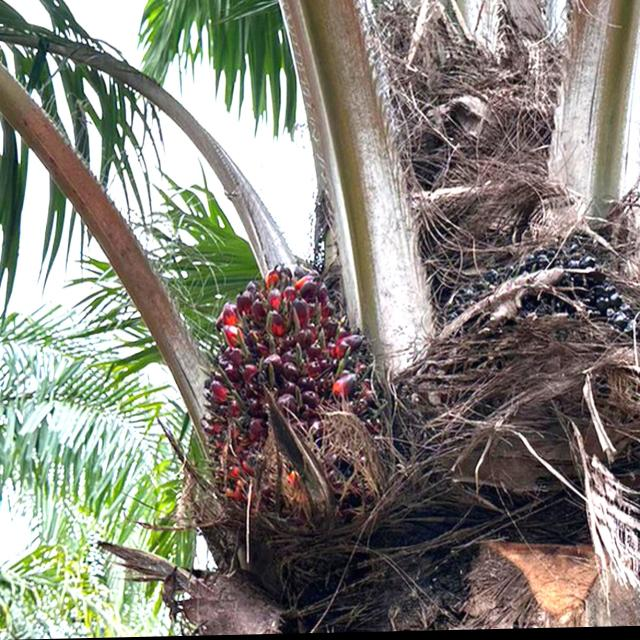ripe: (186, 249, 400, 536)
